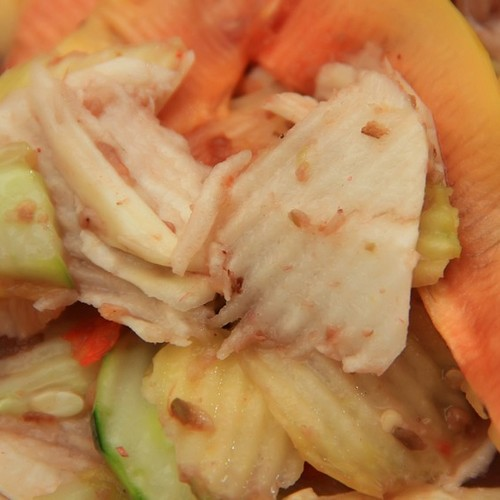rujak buleleng: (3, 17, 500, 500)
